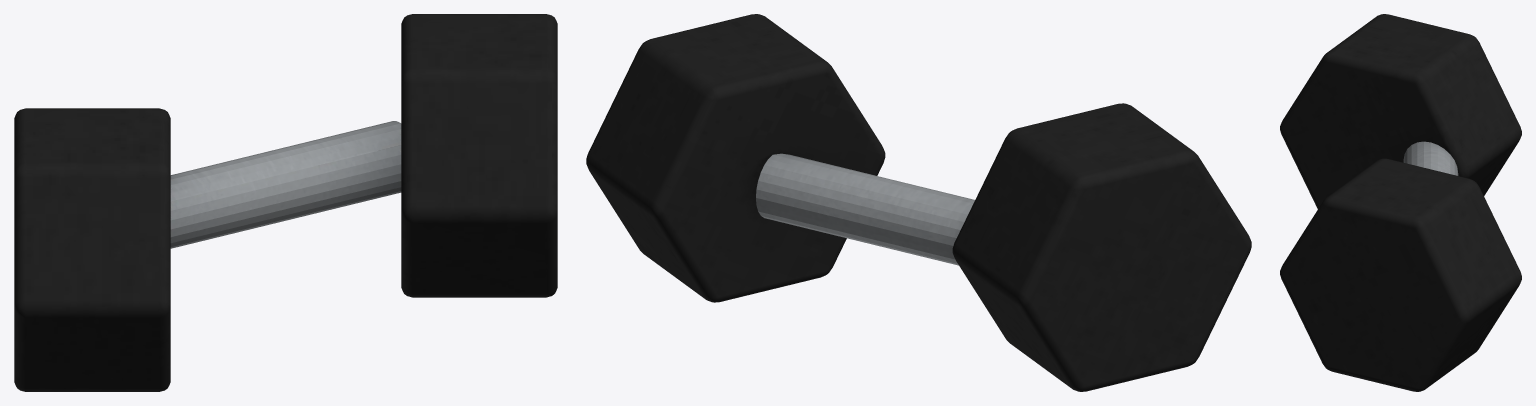
Rendered from hex-single.glb.
The picture shows the model from 3 angles, left to right: view 1: azimuth 30°, elevation 25°; view 2: azimuth 150°, elevation 25°; view 3: azimuth 270°, elevation 25°; orthographic projection. The views are drawn at different scales.
Visible parts, largest first — view 1: rubber_plate, knurled; view 2: rubber_plate, knurled; view 3: rubber_plate, knurled.
Boxes of the visible parts, left/top/right/bottom form: rubber_plate: left=14, top=14, right=557, bottom=391; knurled: left=170, top=121, right=401, bottom=248; rubber_plate: left=586, top=14, right=1251, bottom=391; knurled: left=756, top=153, right=974, bottom=265; rubber_plate: left=1280, top=14, right=1521, bottom=391; knurled: left=1403, top=141, right=1458, bottom=175.
Bounding box in the file's own units: 0.3204 × 0.1126 × 0.1414.
Materials: 2 (2 with a texture image).
